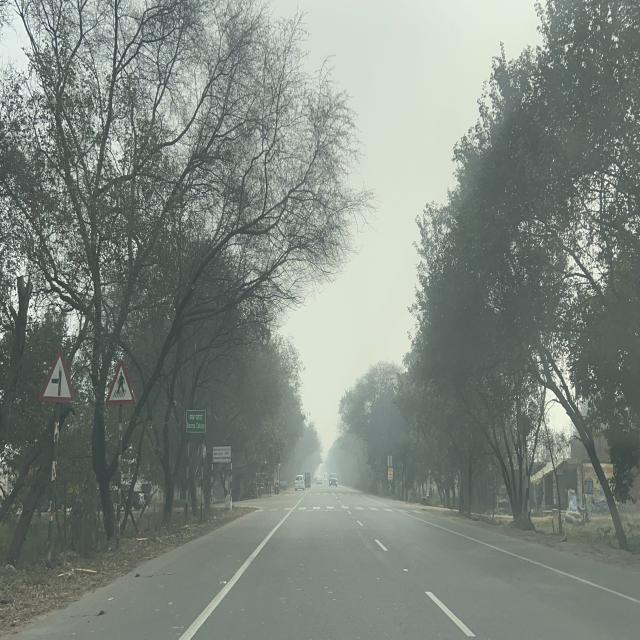GENERAL: (185, 407, 208, 435)
PEDESTRIAN_CROSSING: (104, 357, 138, 407)
SIDE_ROAD_LEFT: (37, 346, 74, 404)
